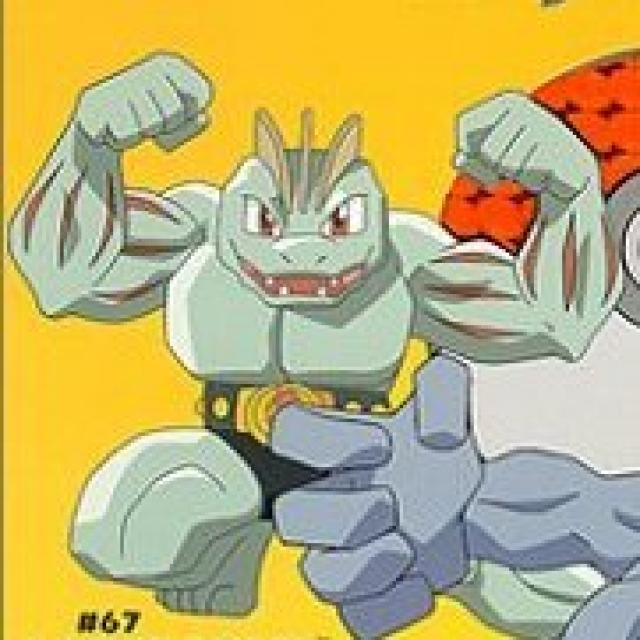Machoke: (77, 73, 578, 581)
